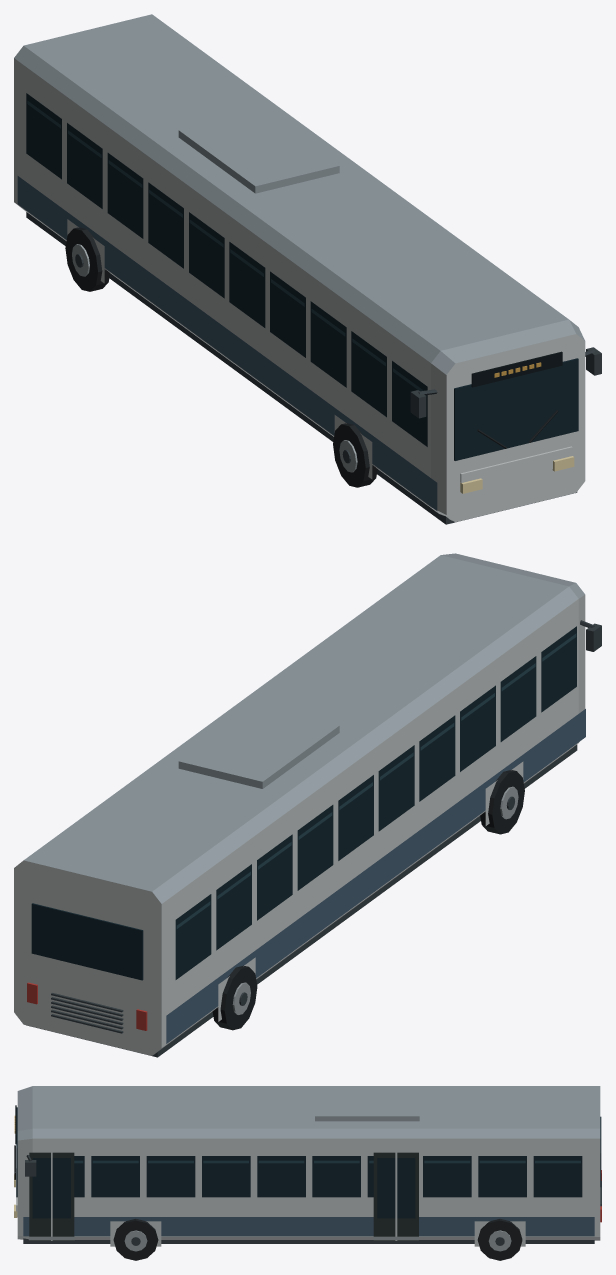
Rendered from bus-regional.glb.
3 views of the same model, one above another, from view 1: azimuth 30°, elevation 25°; view 2: azimuth 150°, elevation 25°; view 3: azimuth 270°, elevation 25° (orthographic). The views are drawn at different scales.
Visible parts, largest first — view 1: bus-regional.segment-01.005; view 2: bus-regional.segment-01.005; view 3: bus-regional.segment-01.005.
Boxes of the visible parts, <box> form: bus-regional.segment-01.005: <box>14,14,601,524</box>; bus-regional.segment-01.005: <box>14,553,601,1057</box>; bus-regional.segment-01.005: <box>14,1086,601,1260</box>.
Size of the model in its own units: 3.16 by 3.2 by 12.92.
